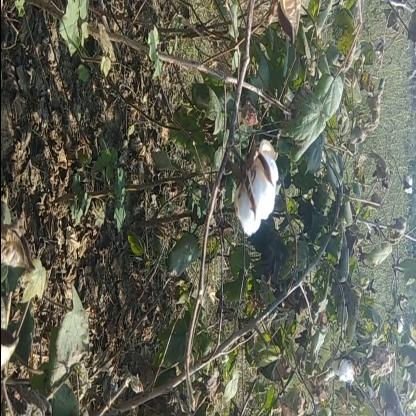cotton_ready: (226, 128, 281, 244)
